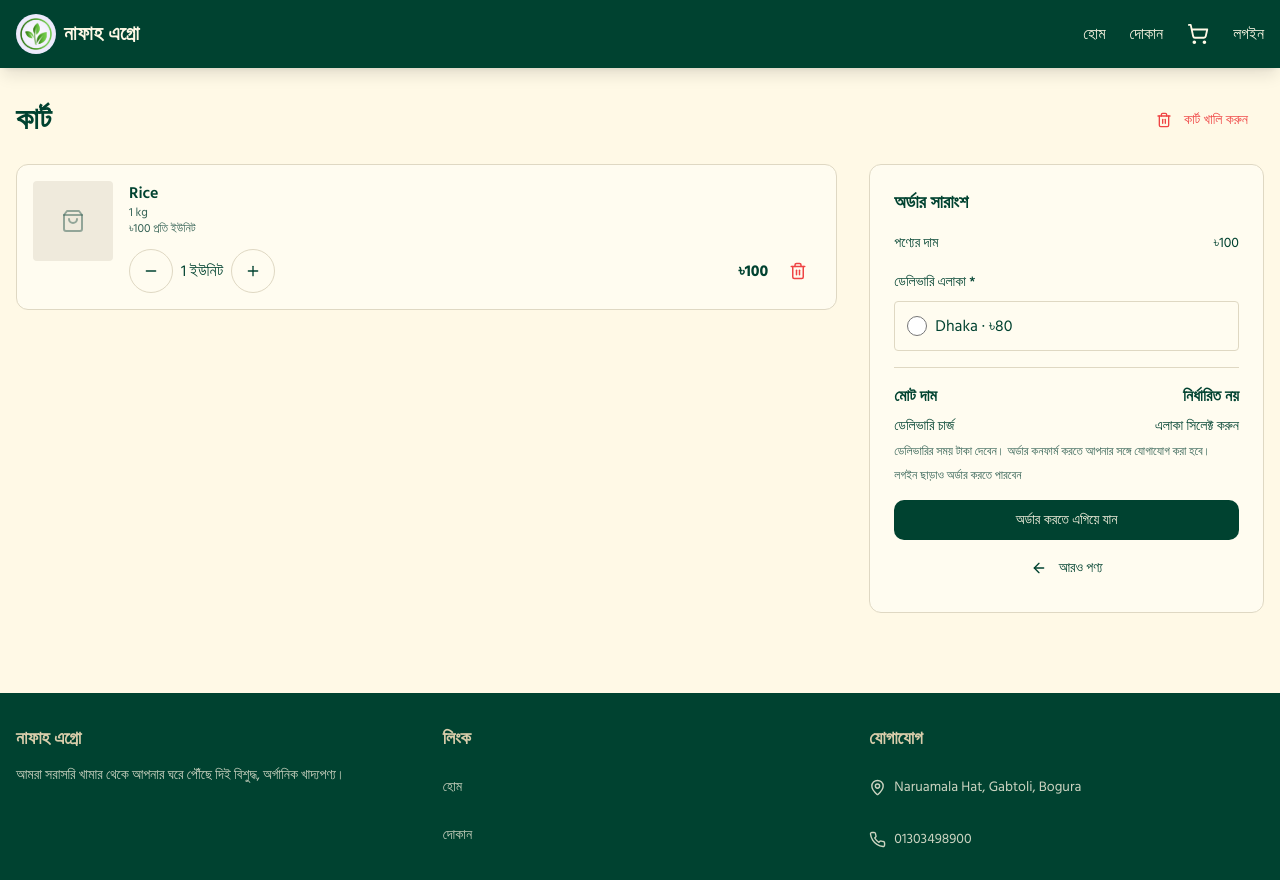
it: checkout basics › refreshes stale prices and requires reviewing them before submitting
Step 1. Click the button "অর্ডার করতে এগিয়ে যান" → (1067, 520), box 894,500 -> 1239,540
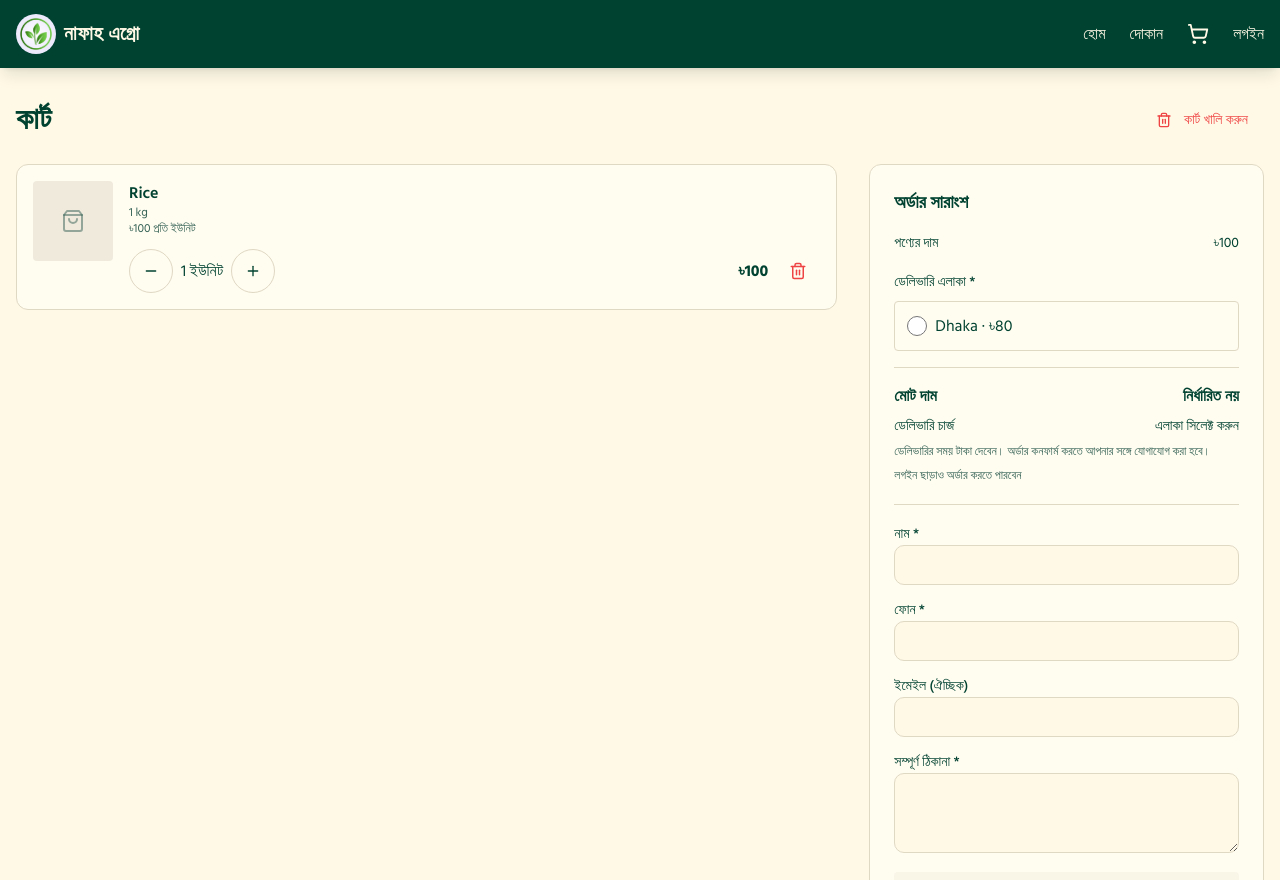
Step 2. Click the radio button → (917, 326), box 907,316 -> 927,336
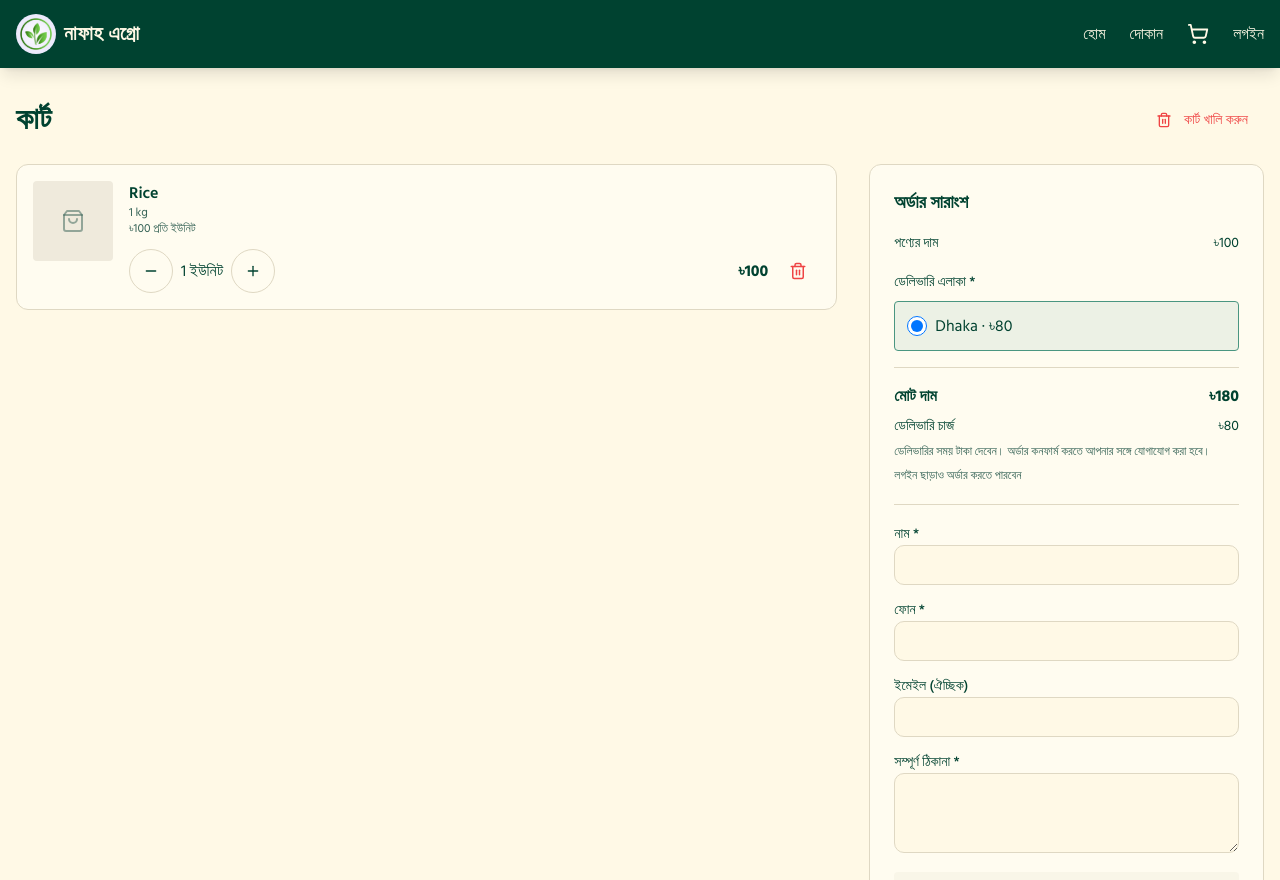
Step 3. Type "Customer" into the field labelled "নাম *" → (1067, 565), box 894,545 -> 1239,585
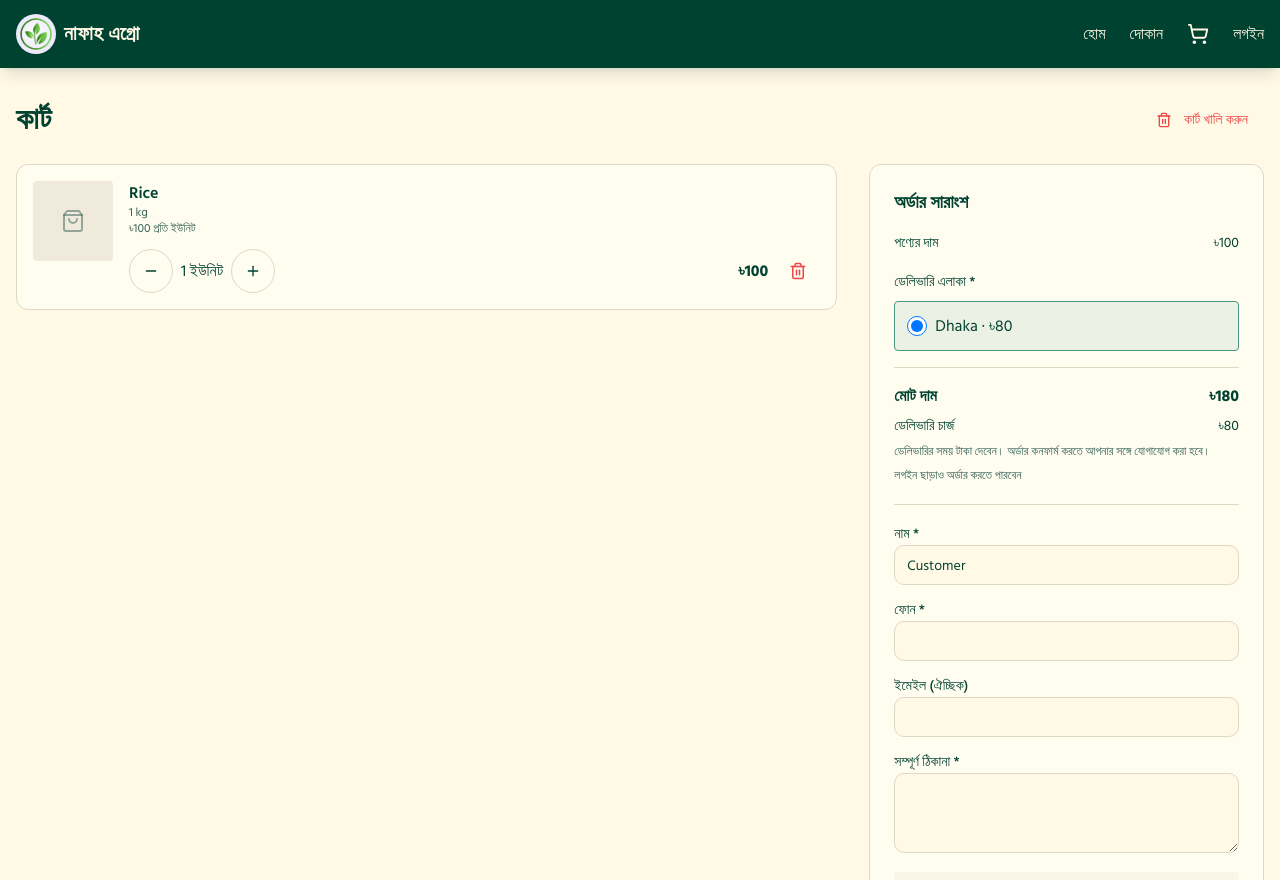
Step 4. Type "01700000000" into the field labelled "ফোন *" → (1067, 641), box 894,621 -> 1239,661
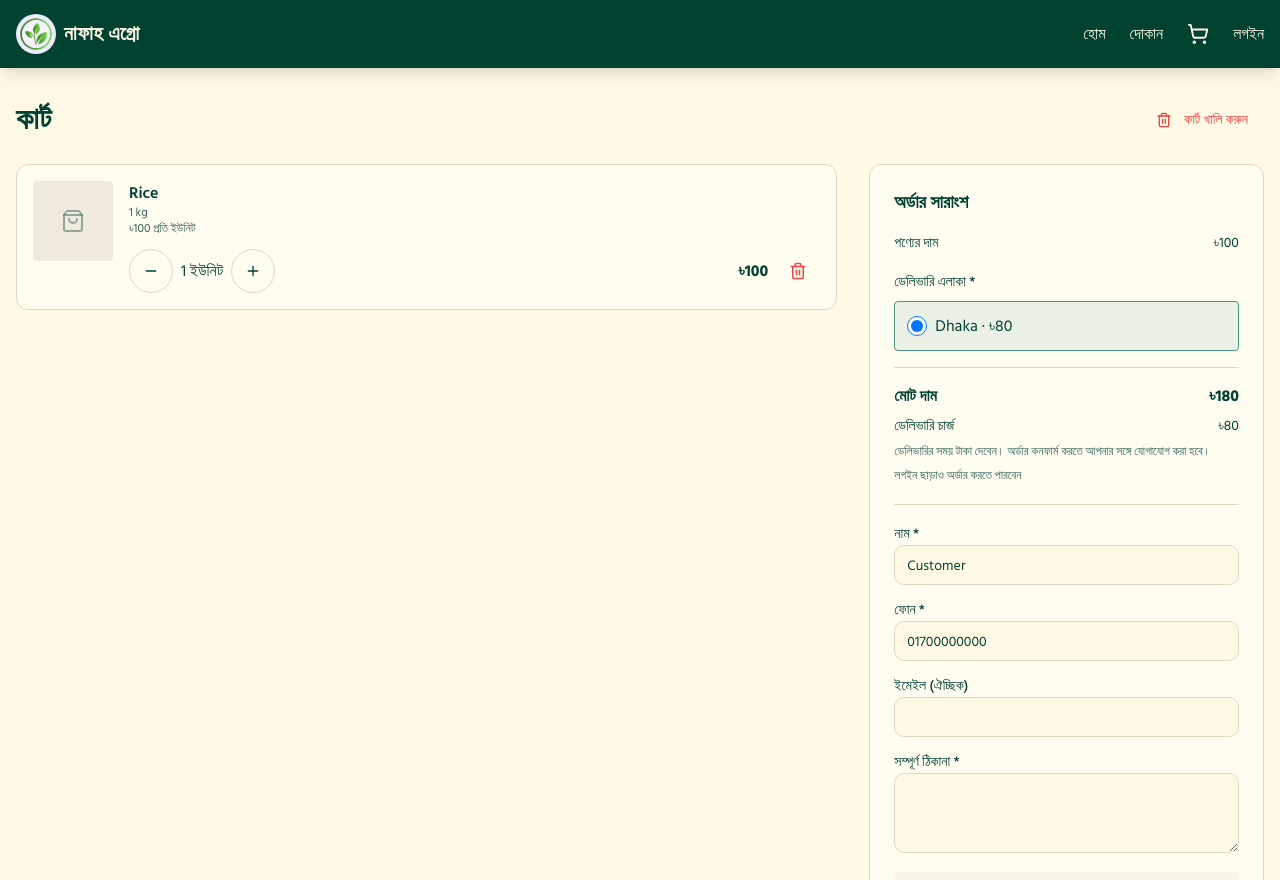
Step 5. Type "Bogura address" into the text box labelled "সম্পূর্ণ ঠিকানা *" → (1067, 813), box 894,773 -> 1239,853
(page scrolled)
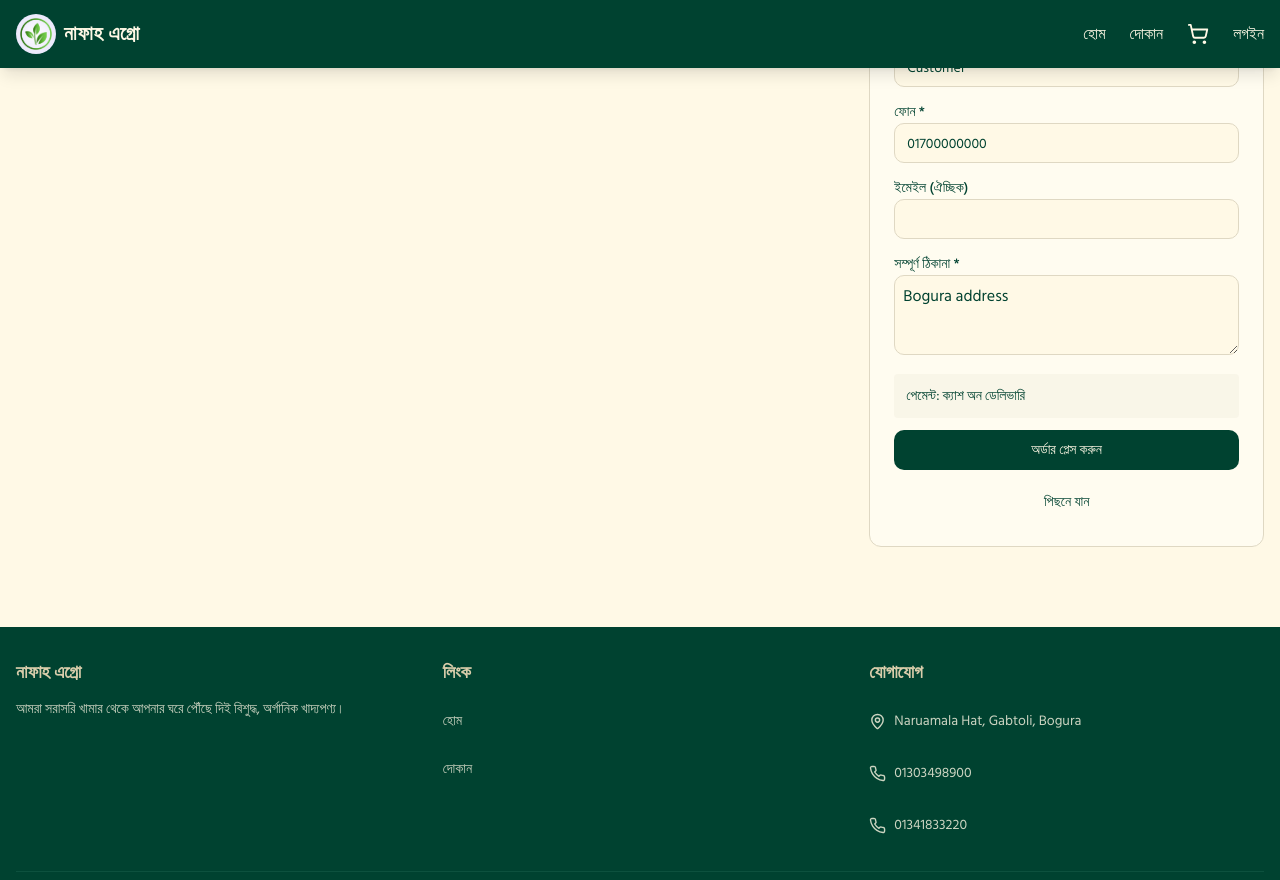
Step 6. Click the button "অর্ডার প্লেস করুন" → (1067, 450), box 894,430 -> 1239,470
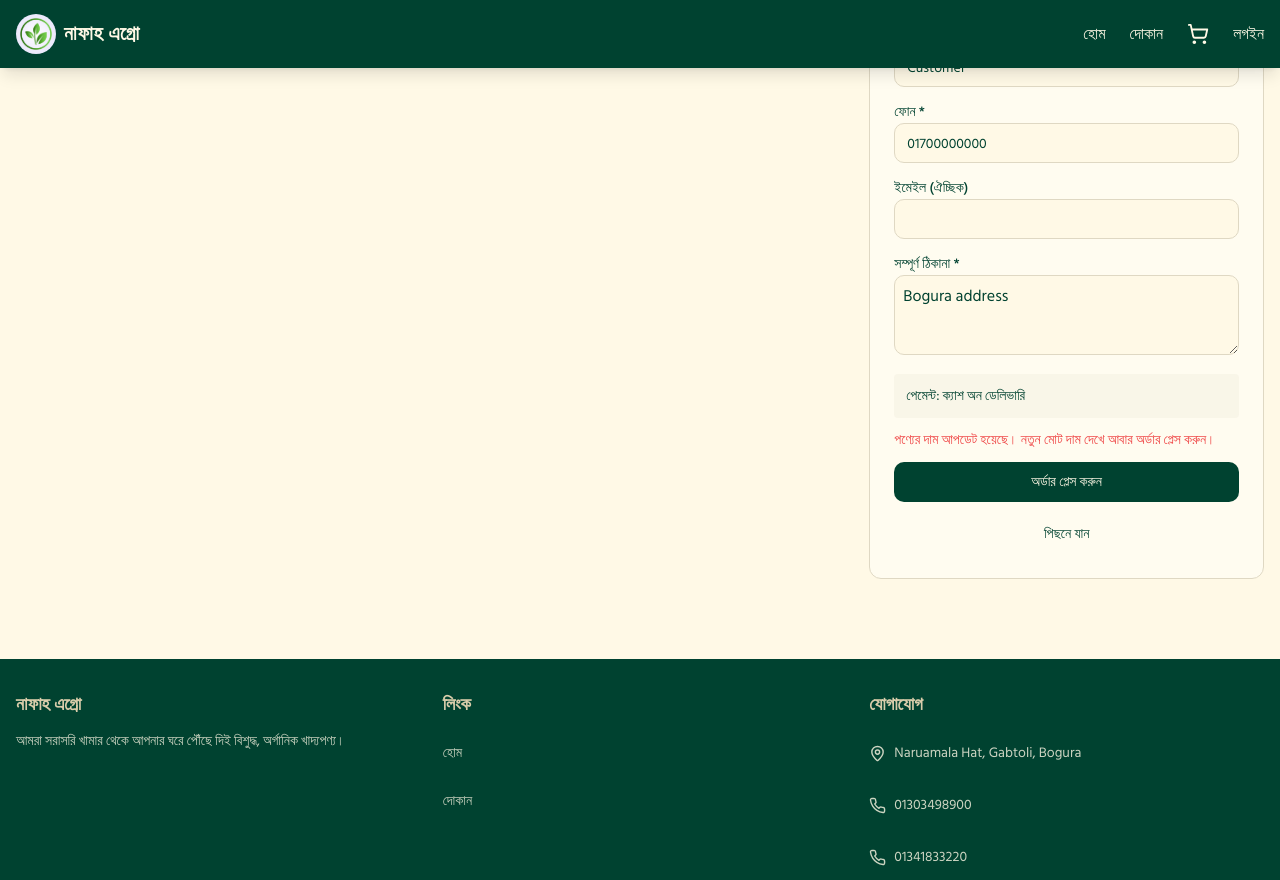
Now the message "পণ্যের দাম আপডেট হয়েছে। নতুন মোট দাম দেখে আবার অর্ডার প্লেস করুন।" is shown, box 894,430 -> 1239,450
